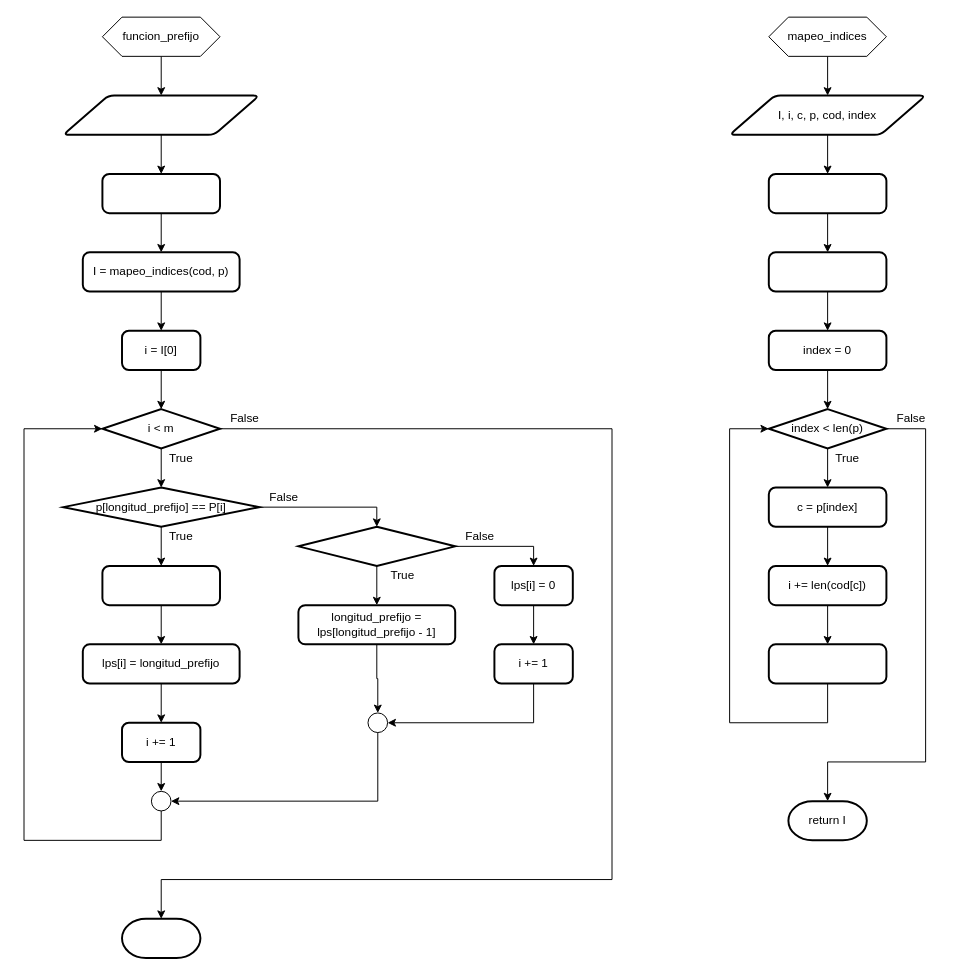
Some shapes in this 953 by 976 pixel diagram are drawn without their labels. Each missing label, with the centre of its shape:
i = -1: point 827,271
I = [ ]: point 827,193
I.append(i): point 827,663
longitud_prefijo != 0: point 376,545
longitud_prefijo += 1: point 160,585
lps = [0] * M: point 160,193
P, M , lps, longitud_prefijo, i, I: point 161,114
return lps: point 161,937
